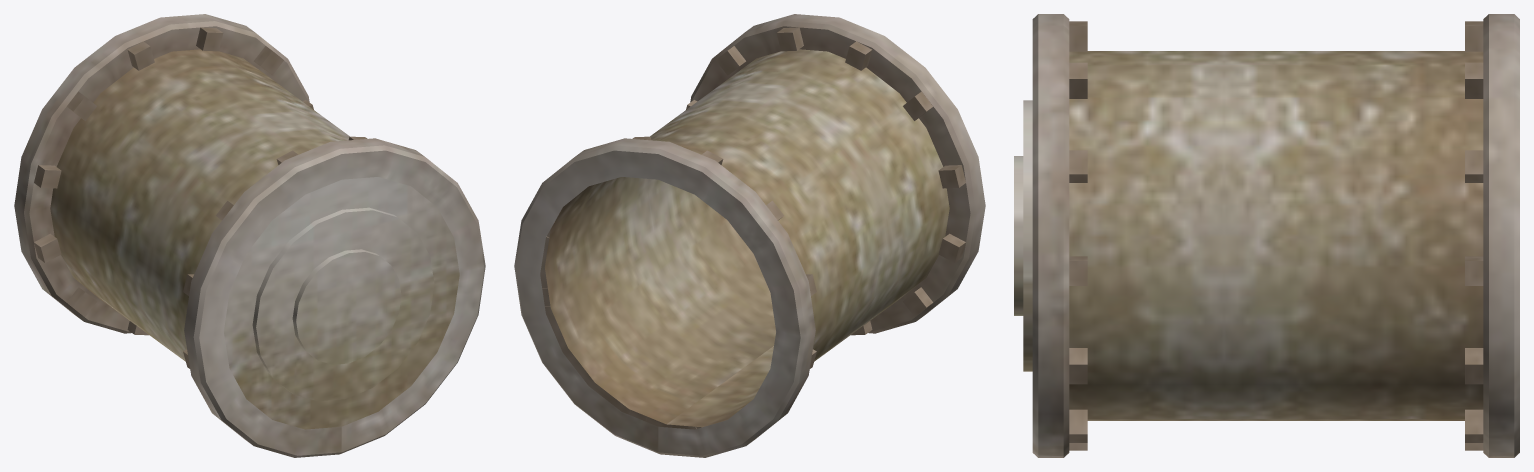
File: pipe-ending-up.glb
3 views of the same model, side by side, from view 1: azimuth 30°, elevation 25°; view 2: azimuth 150°, elevation 25°; view 3: azimuth 270°, elevation 25° (orthographic). The views are drawn at different scales.
Visible parts, largest first — view 1: body; view 2: body; view 3: body.
Part boxes in pixels (x1,y1,x2,y2): body: (14,14,485,457); body: (514,14,985,457); body: (1014,14,1519,457).
Bounding box in the file's own units: 0.756 × 0.756 × 0.855.
Materials: 1 (1 with a texture image).
